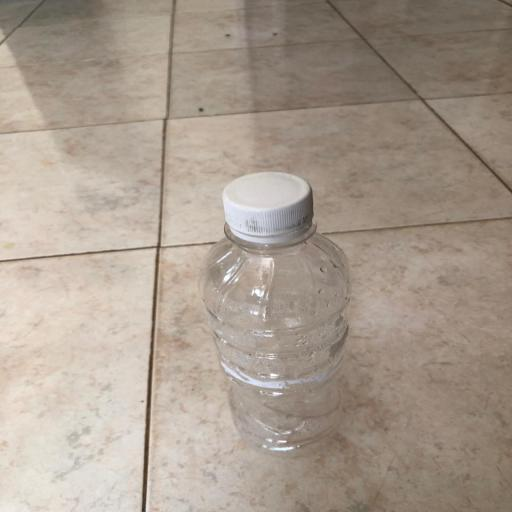waste: (178, 163, 402, 469)
